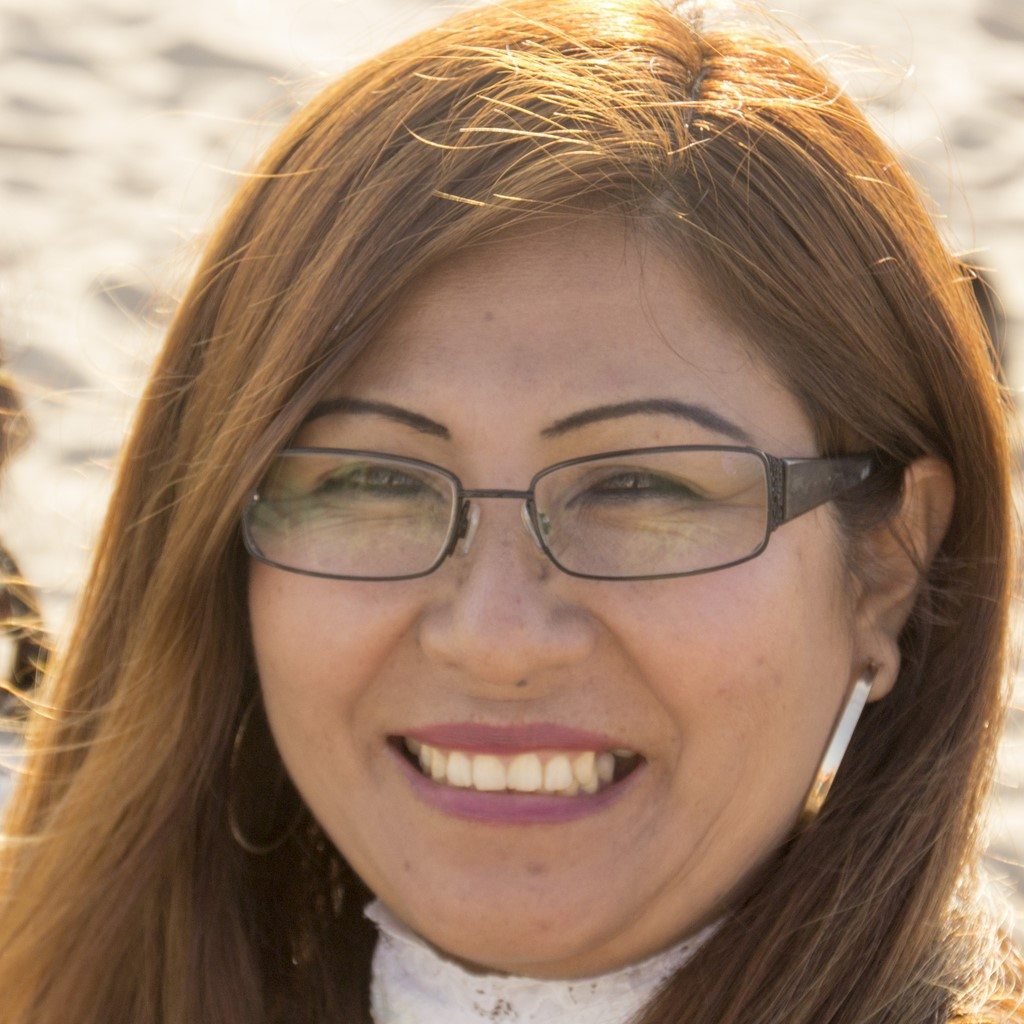sin_mascara: (243, 144, 902, 955)
